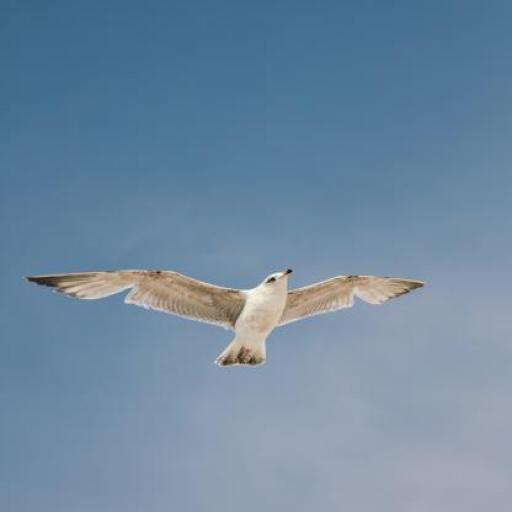bird: (20, 267, 426, 369)
